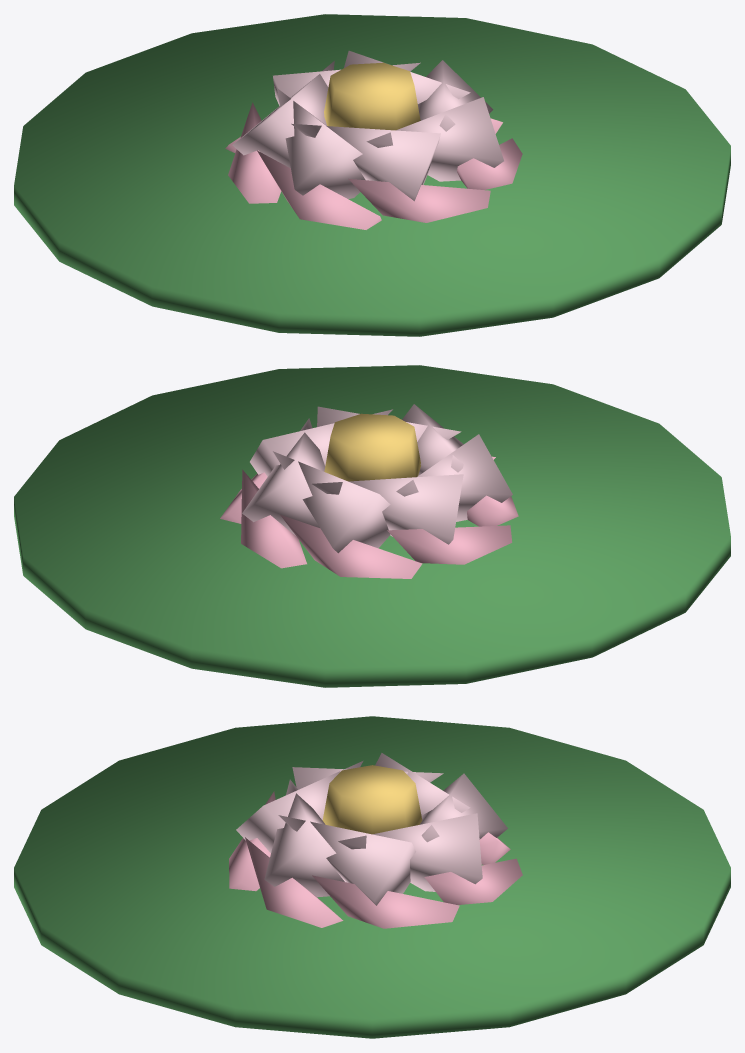
File: xy_nat_lotus.glb
The picture shows the model from 3 angles, top to bottom: view 1: azimuth 30°, elevation 25°; view 2: azimuth 150°, elevation 25°; view 3: azimuth 270°, elevation 25°; orthographic projection.
Visible parts, largest first — view 1: xy_nat_lotus; view 2: xy_nat_lotus; view 3: xy_nat_lotus.
Part boxes in pixels (box(x1,y1,x2,y2)): xy_nat_lotus: box(14, 14, 730, 336); xy_nat_lotus: box(14, 365, 730, 687); xy_nat_lotus: box(14, 716, 730, 1038).
Bounding box in the file's own units: 1 × 0.2324 × 1.
